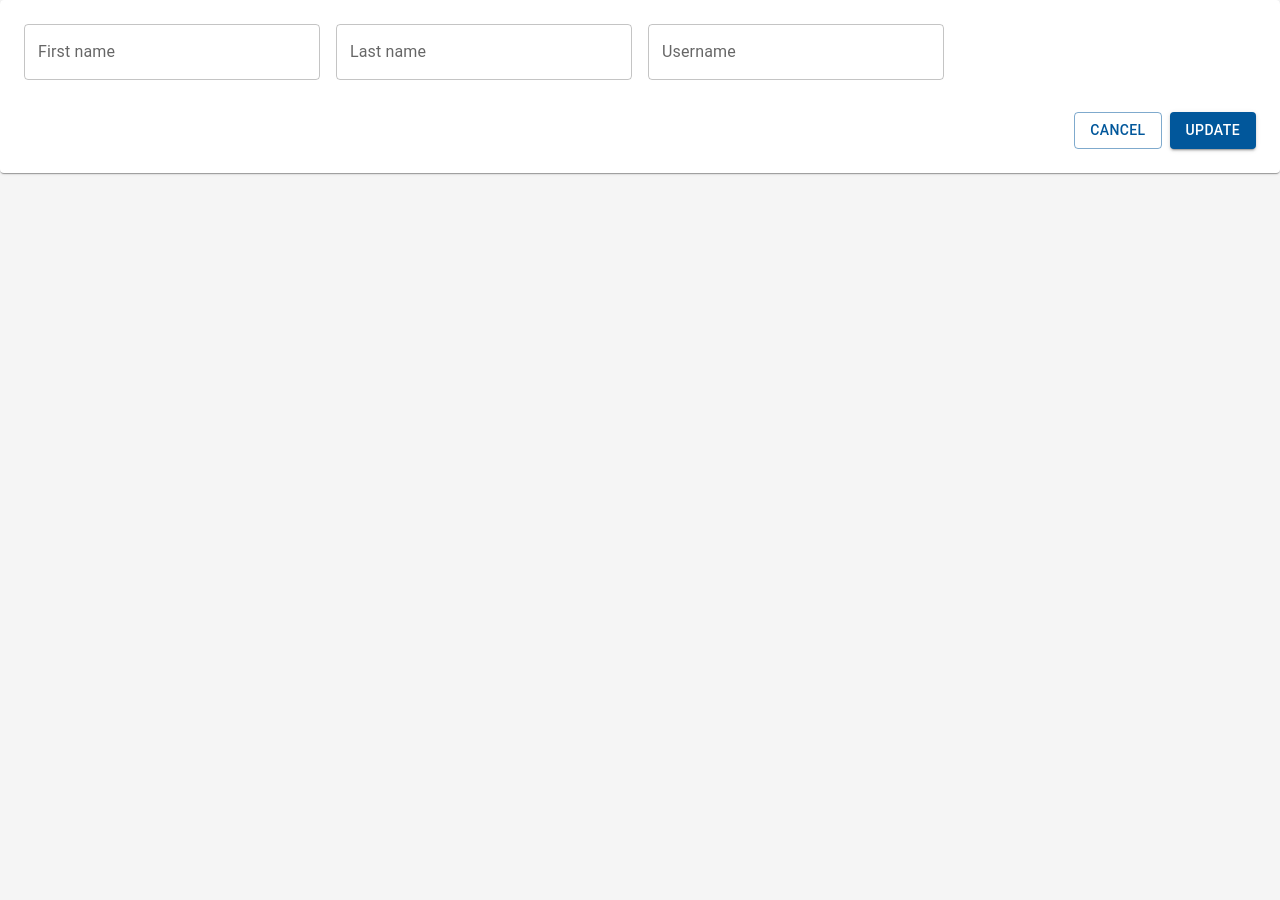
Test: AccountProfile :: shows server error if id parameter omitted
Type "Foo" into the field labelled "First name" at (172,52), box [24, 24, 320, 80]
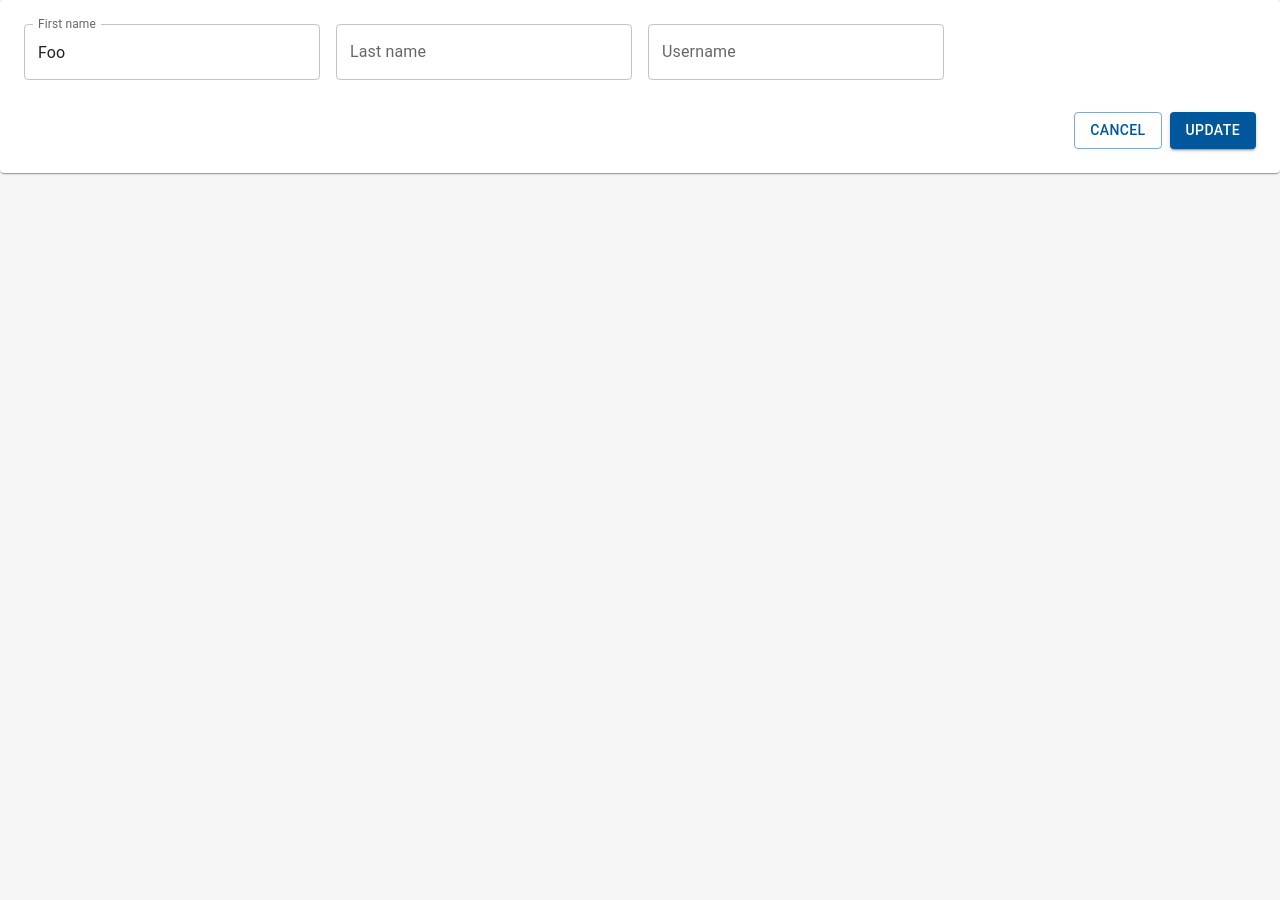
Type "Bar" into the field labelled "Last name" at (484,52), box [336, 24, 632, 80]
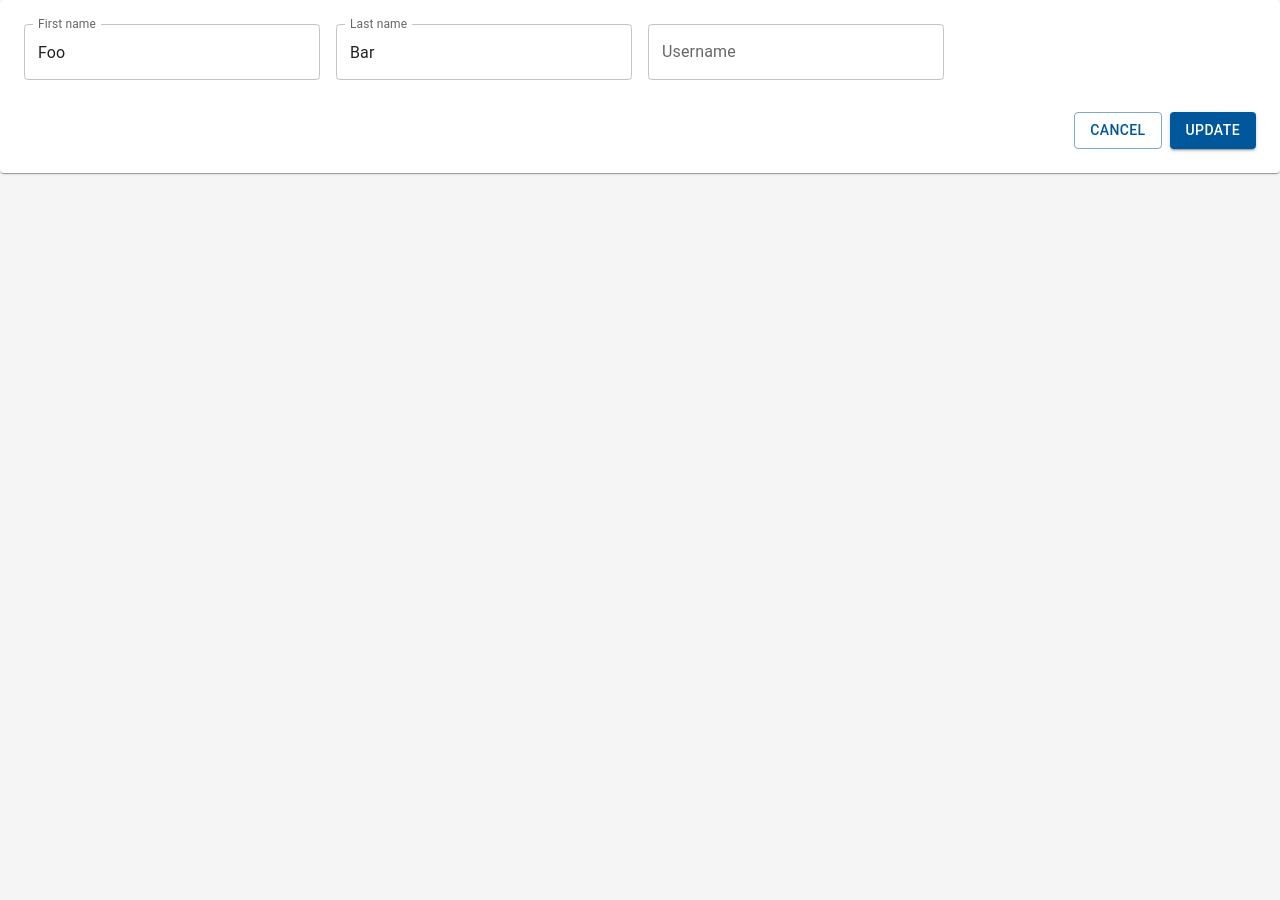
Type "foobar" into the field labelled "Username" at (796,52), box [648, 24, 944, 80]
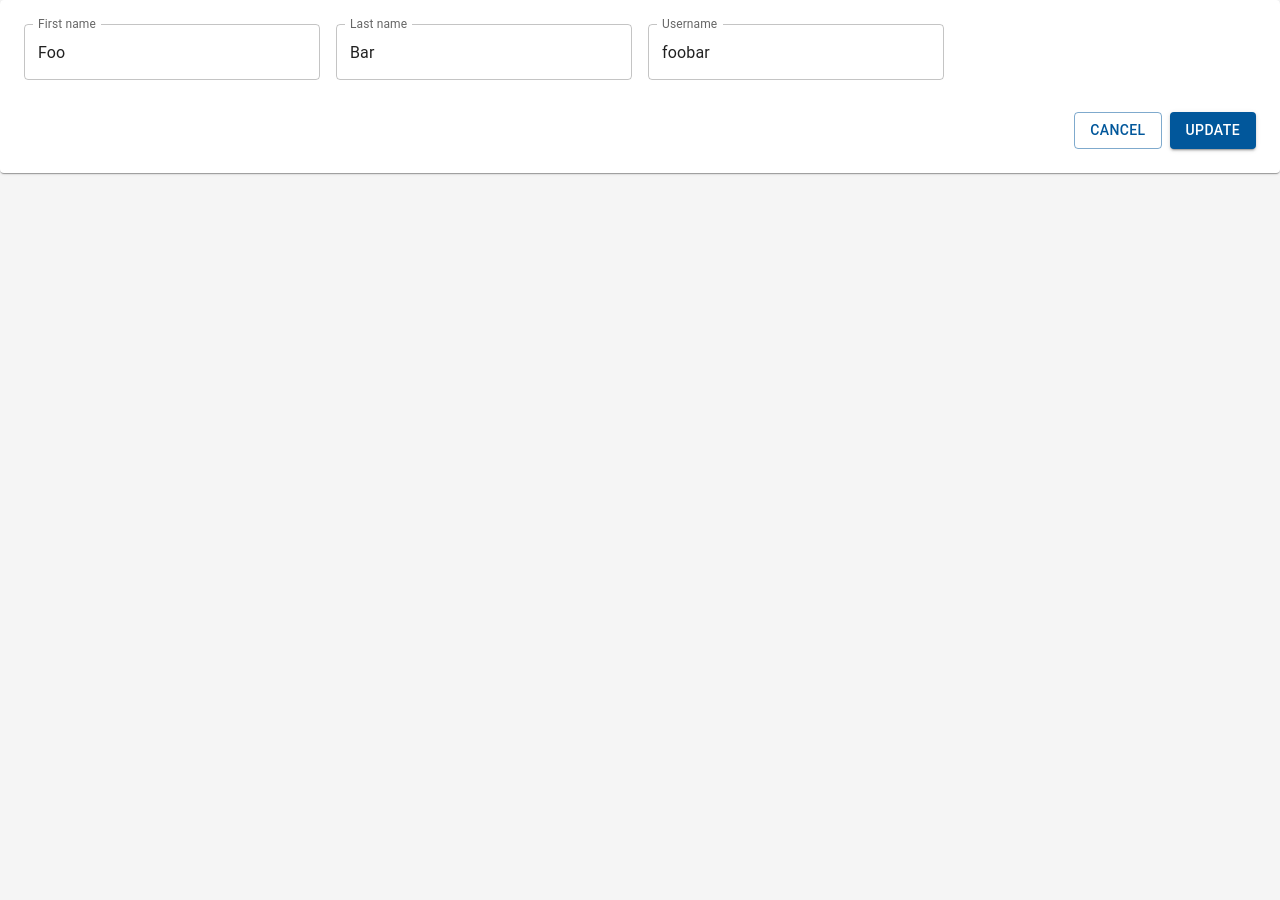
Click the button "Update" at (1213,130), box [1170, 112, 1256, 148]
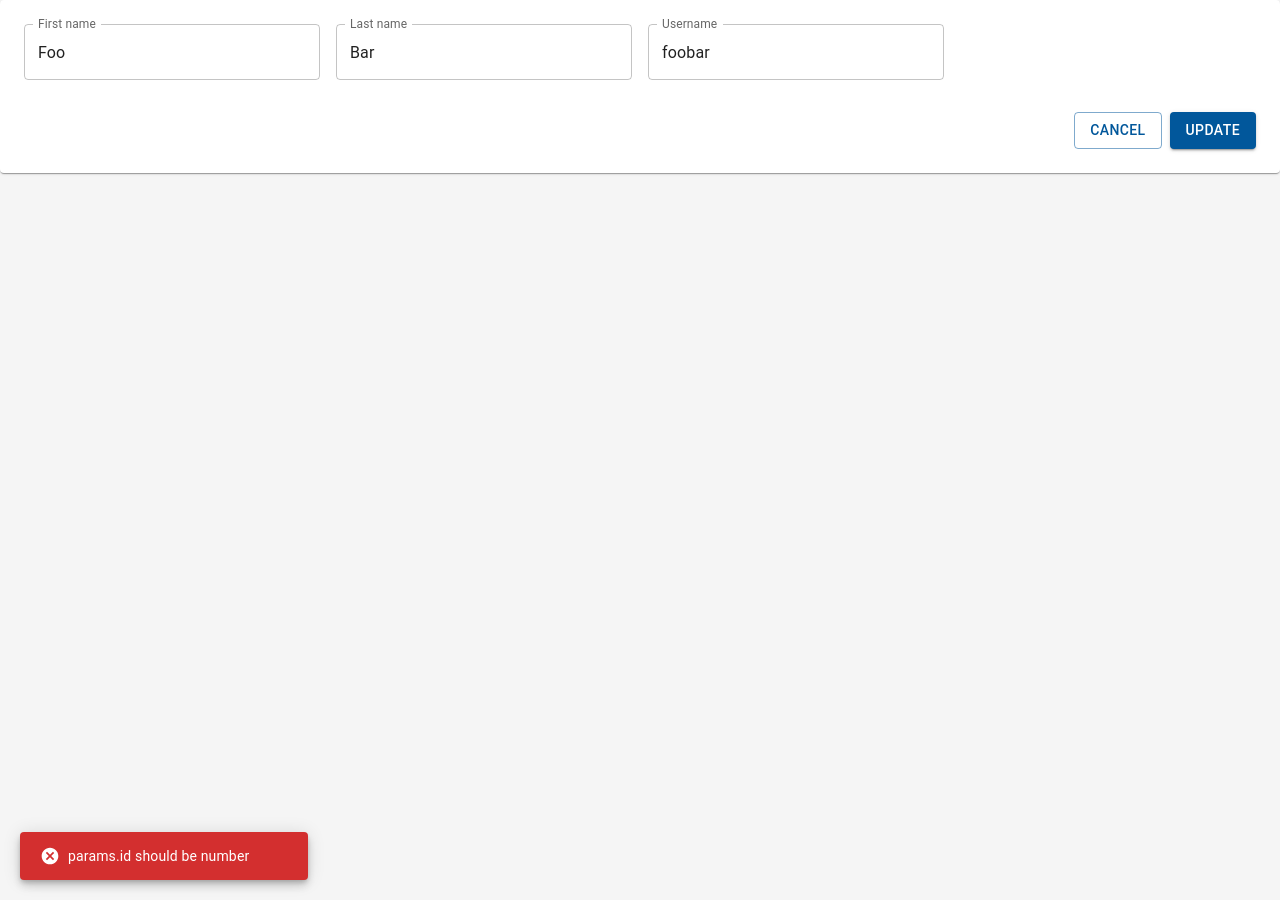
Result: the text "params.id should be number" is shown at [40, 846, 249, 866]
